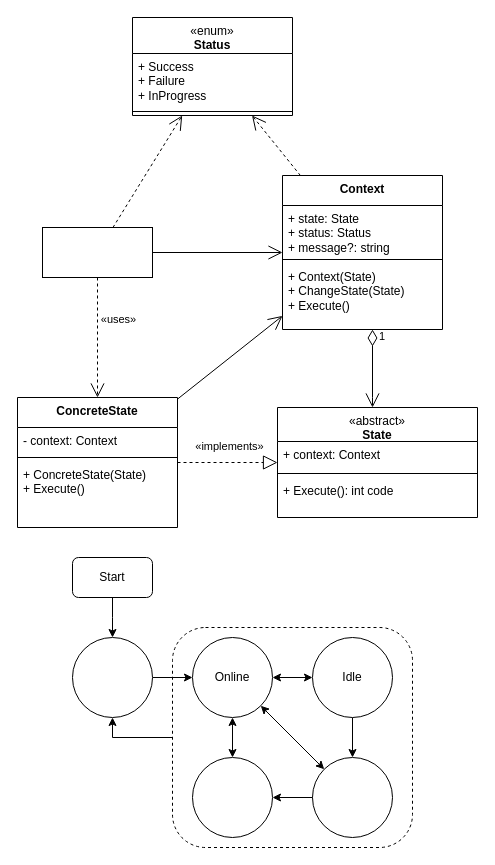
Some shapes in this 495 by 865 pixel diagram are drawn without their labels. The shapes that lost their labels are listed below. From the top down, each one's centre as x and y in pixels, then its label:
point (97, 252): Client
point (112, 677): Offline
point (232, 797): Do Not Disturb
point (352, 797): Busy
